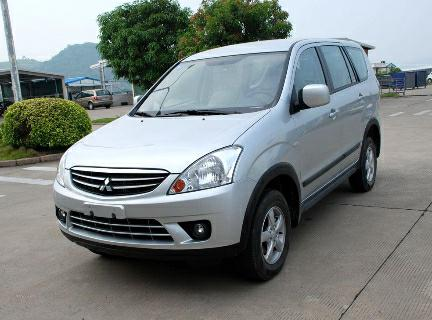三菱-君阁: (45, 32, 393, 287)
